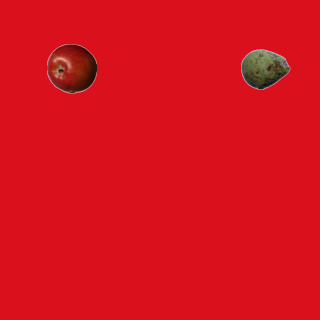Apple Braeburn: (46, 43, 96, 93)
Pear Stone: (240, 44, 290, 94)
